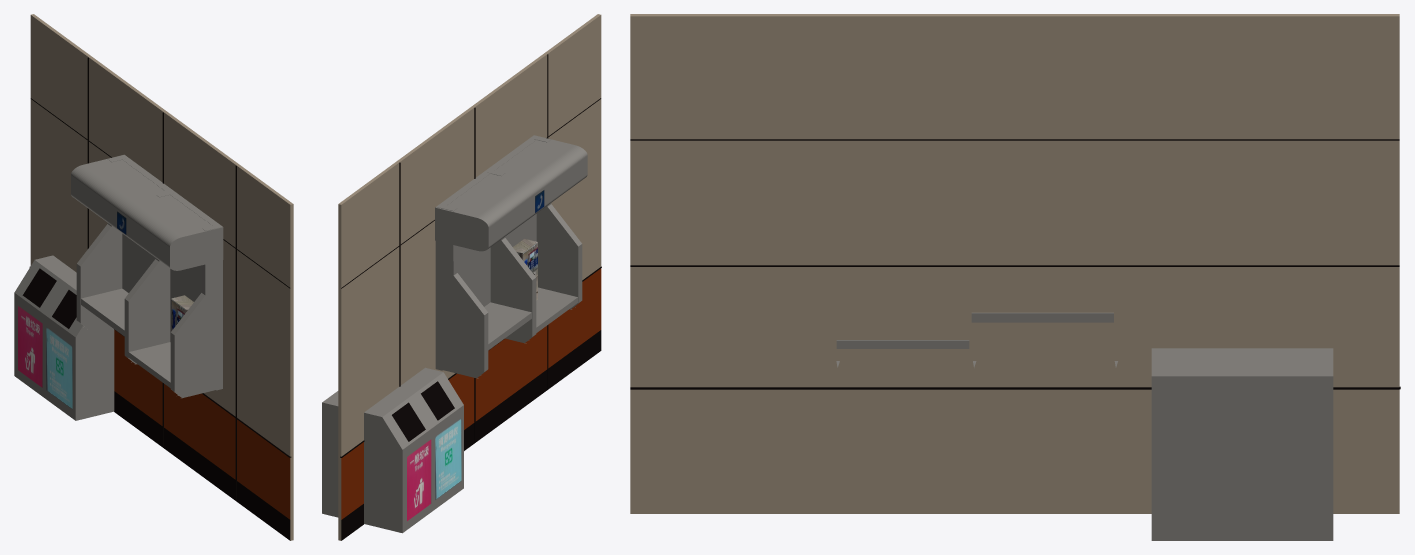
File: wall.fbx
3 views of the same model, side by side, from view 1: azimuth 30°, elevation 25°; view 2: azimuth 150°, elevation 25°; view 3: azimuth 270°, elevation 25° (orthographic). The views are drawn at different scales.
Visible parts, largest first — view 1: 立方體.008, 立方體.006, Cube, 立方體.003, 立方體.004, 立方體, 立方體.002, 平面.001, 平面, 立方體.005, 立方體.001, 平面.002 (+3 smaller); view 2: 立方體.008, Cube, 立方體.006, 立方體.002, 立方體.004, 立方體.003, 立方體, 平面.001, 平面, 立方體.005, 立方體.001, 平面.002 (+3 smaller); view 3: 立方體.008, Cube, 立方體.005, 立方體.001.
Boxes of the visible parts, x1=… form: 立方體.008: x1=30, y1=14, x2=293, y2=540; 立方體.006: x1=71, y1=154, x2=223, y2=270; Cube: x1=14, y1=255, x2=114, y2=420; 立方體.003: x1=170, y1=224, x2=219, y2=398; 立方體.004: x1=122, y1=155, x2=222, y2=390; 立方體: x1=124, y1=191, x2=173, y2=364; 立方體.002: x1=76, y1=156, x2=125, y2=329; 平面.001: x1=46, y1=327, x2=72, y2=409; 平面: x1=18, y1=306, x2=42, y2=387; 立方體.005: x1=81, y1=288, x2=128, y2=336; 立方體.001: x1=128, y1=342, x2=170, y2=387; 平面.002: x1=22, y1=268, x2=56, y2=307; 立方體.008: x1=338, y1=14, x2=601, y2=540; Cube: x1=322, y1=367, x2=463, y2=533; 立方體.006: x1=435, y1=135, x2=587, y2=251; 立方體.002: x1=439, y1=205, x2=488, y2=378; 立方體.004: x1=435, y1=135, x2=536, y2=370; 立方體.003: x1=533, y1=136, x2=582, y2=309; 立方體: x1=487, y1=169, x2=536, y2=343; 平面.001: x1=435, y1=418, x2=461, y2=499; 平面: x1=407, y1=439, x2=431, y2=520; 立方體.005: x1=484, y1=302, x2=531, y2=350; 立方體.001: x1=536, y1=287, x2=577, y2=332; 平面.002: x1=392, y1=402, x2=425, y2=441; 立方體.008: x1=630, y1=14, x2=1399, y2=513; Cube: x1=1151, y1=348, x2=1333, y2=540; 立方體.005: x1=971, y1=312, x2=1113, y2=322; 立方體.001: x1=836, y1=340, x2=969, y2=348.
Bounding box in the file's own units: 220 × 741 × 1039.
12 materials, 4 textured.
